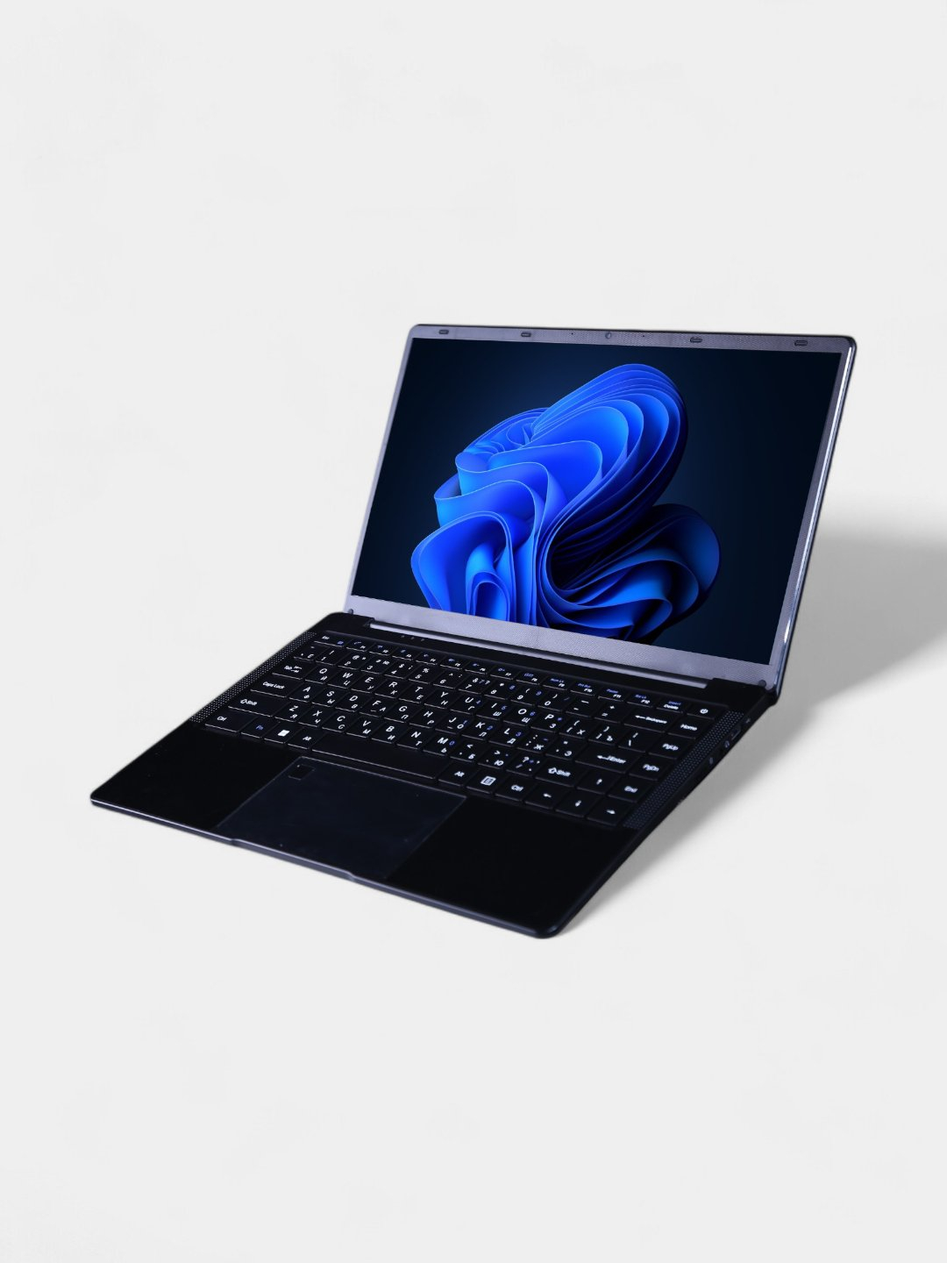laptop: (78, 321, 863, 945)
